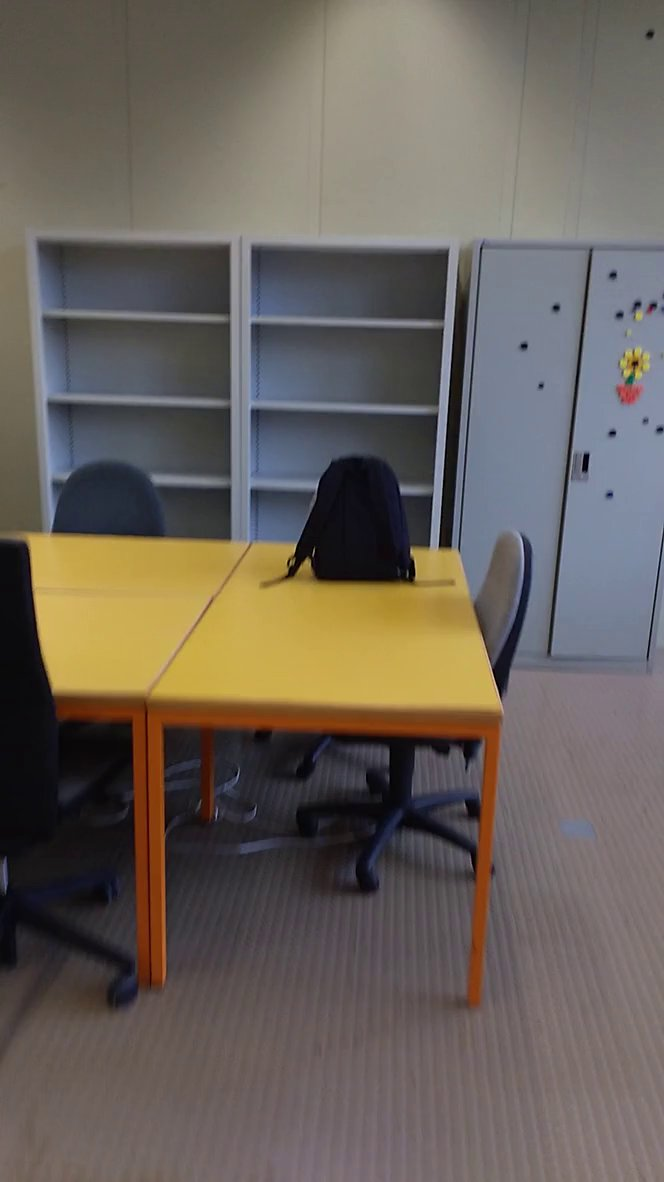bag: (257, 442, 462, 607)
chair: (293, 519, 544, 889), (51, 455, 177, 559)
